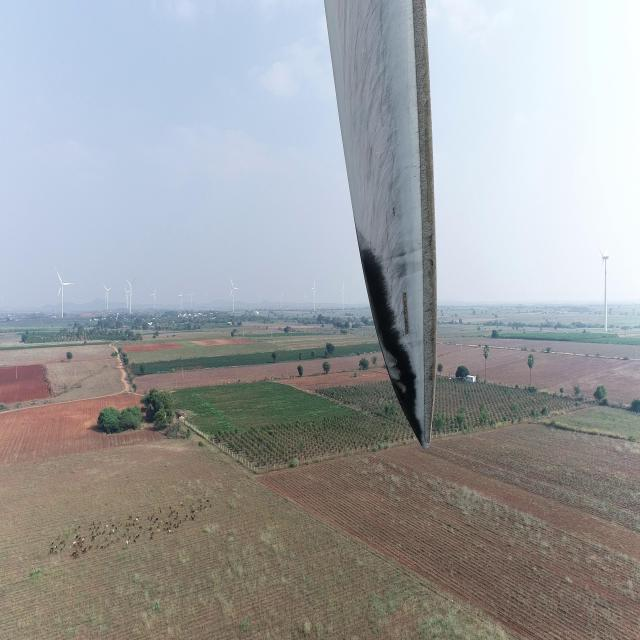Dirt: (328, 0, 434, 402)
Oil LEAKAGE: (359, 238, 427, 446)
